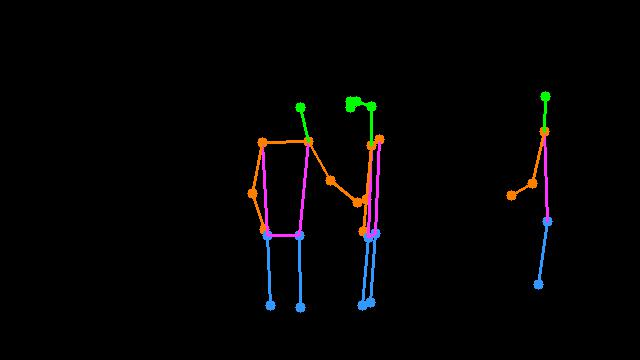normal: (234, 79, 395, 330)
